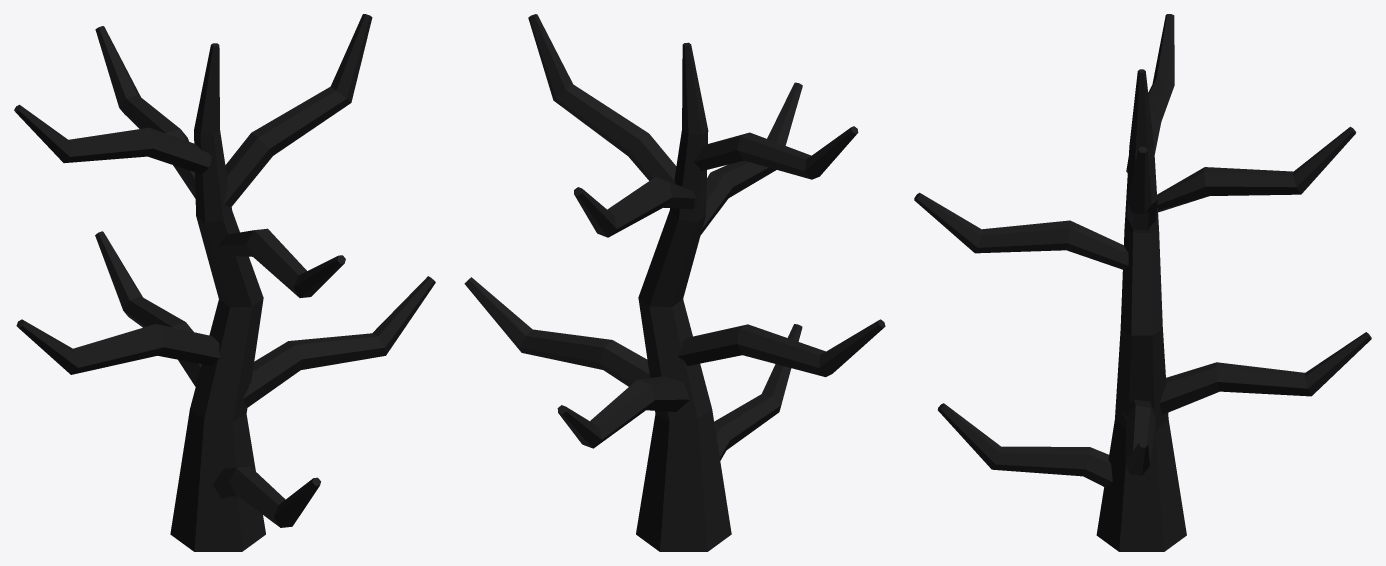
File: _CenarioPrincipaisAssets_ArvoreMorta1.fbx
3 views of the same model, side by side, from view 1: azimuth 30°, elevation 25°; view 2: azimuth 150°, elevation 25°; view 3: azimuth 270°, elevation 25° (orthographic). The views are drawn at different scales.
Visible parts, largest first — view 1: Circle; view 2: Circle; view 3: Circle.
Part boxes in pixels (x1=…): Circle: x1=14, y1=14, x2=435, y2=551; Circle: x1=464, y1=14, x2=885, y2=551; Circle: x1=914, y1=14, x2=1371, y2=551.
Bounding box in the file's own units: 1007 × 1130 × 1011.
